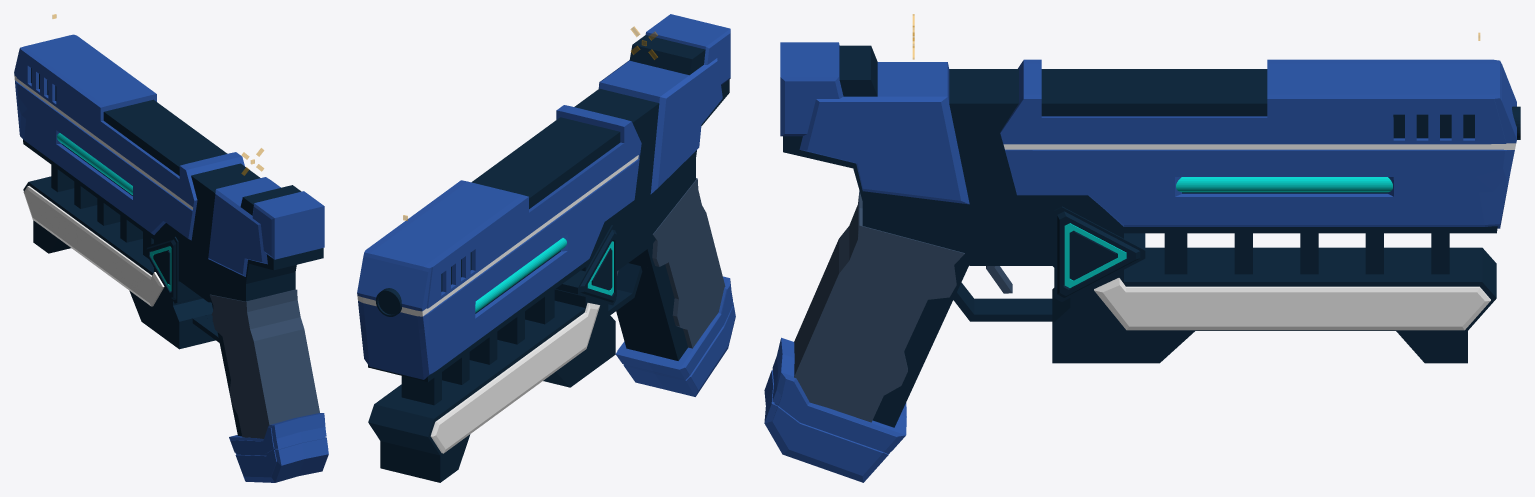
File: LightChaserModel.fbx
3 views of the same model, side by side, from view 1: azimuth 30°, elevation 25°; view 2: azimuth 150°, elevation 25°; view 3: azimuth 270°, elevation 25° (orthographic). The views are drawn at different scales.
Visible parts, largest first — view 1: LightChaser, LightChaserLGrip, LightChaserL; view 2: LightChaser, LightChaserLGrip, LightChaserL; view 3: LightChaser, LightChaserLGrip, LightChaserL.
Part boxes in pixels (x1=…): LightChaser: x1=14, y1=34, x2=328, y2=482; LightChaserLGrip: x1=230, y1=415, x2=328, y2=477; LightChaserL: x1=57, y1=133, x2=171, y2=291; LightChaser: x1=357, y1=14, x2=735, y2=482; LightChaserLGrip: x1=617, y1=284, x2=734, y2=390; LightChaserL: x1=475, y1=238, x2=613, y2=312; LightChaser: x1=764, y1=42, x2=1520, y2=482; LightChaserLGrip: x1=772, y1=378, x2=896, y2=475; LightChaserL: x1=1064, y1=177, x2=1392, y2=287.
Bounding box in the file's own units: 52.32 × 274 × 422.
Materials: 4 (4 with a texture image).
